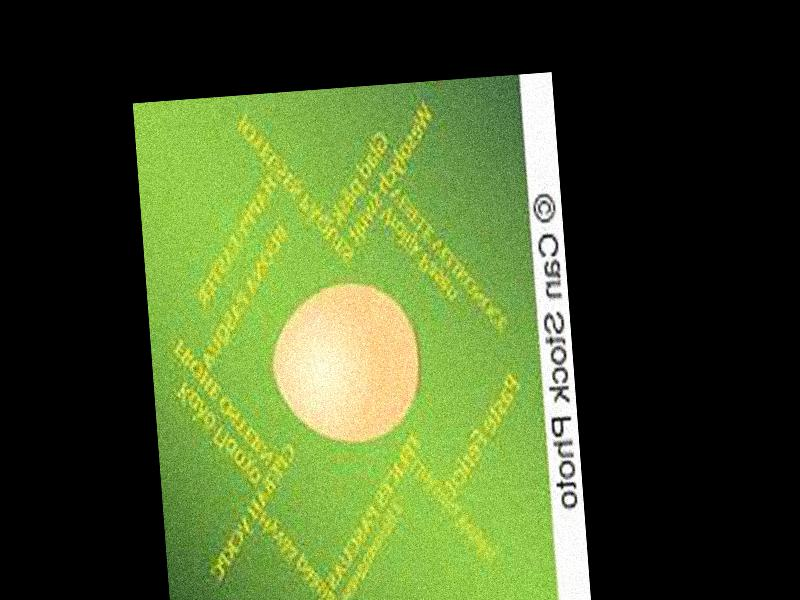Eggs: (267, 279, 423, 445)
